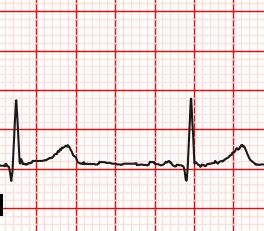Pathological Q Wave: (4, 157, 18, 186), (180, 162, 192, 186)
